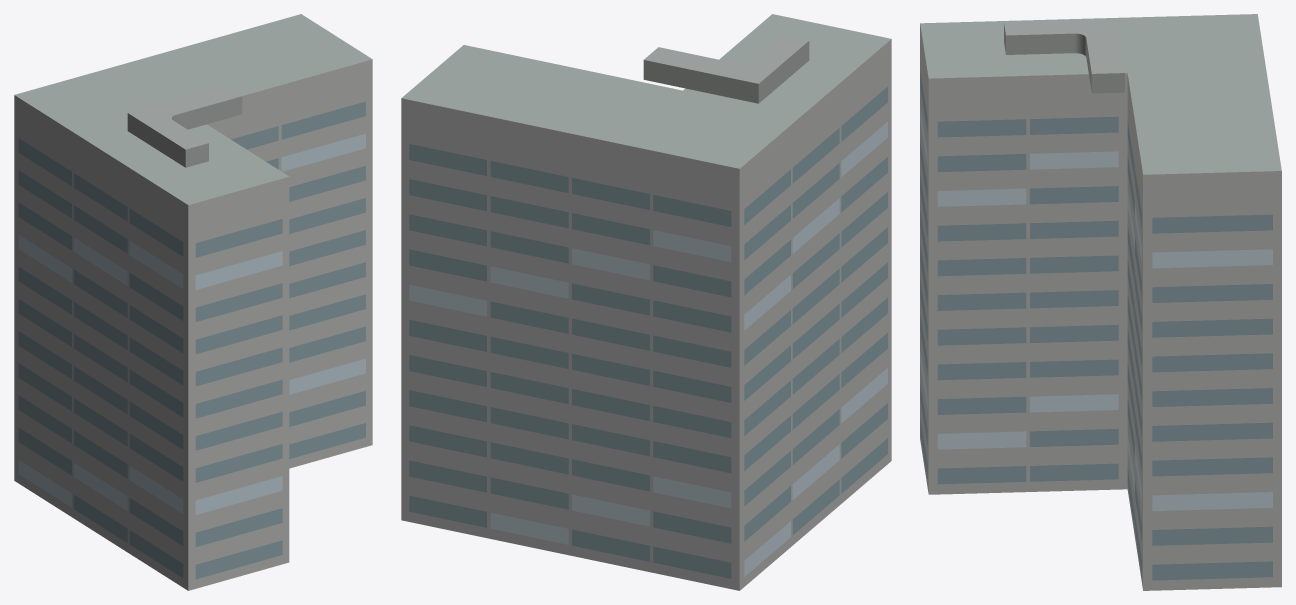
Rendered from apt-a10024463.glb.
3 views of the same model, side by side, from view 1: azimuth 30°, elevation 25°; view 2: azimuth 150°, elevation 25°; view 3: azimuth 270°, elevation 25° (orthographic). The views are drawn at different scales.
Parts seen in each view (by area): view 1: apt-a10024463; view 2: apt-a10024463; view 3: apt-a10024463.
Boxes of the visible parts, x1,y1,x2,y2 form: apt-a10024463: [14, 14, 372, 590]; apt-a10024463: [401, 14, 891, 590]; apt-a10024463: [920, 14, 1281, 590].
Size of the model in its own units: 34.81 by 44 by 33.1.
